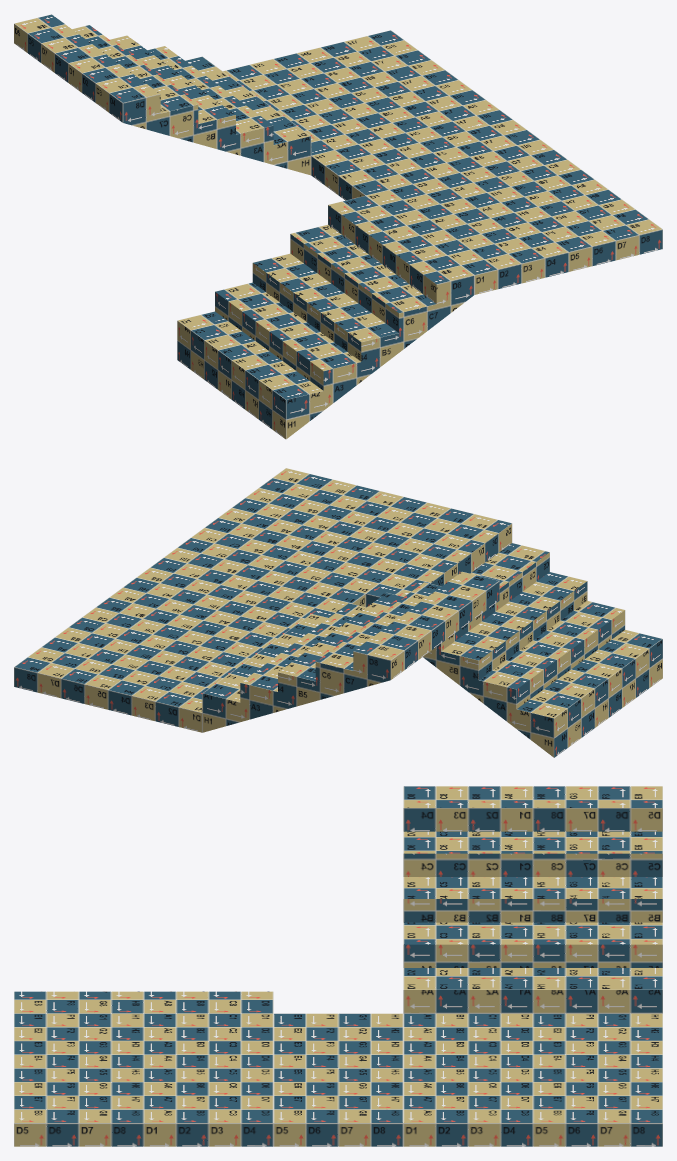
Rendered from STAIR_Switchback.fbx.
The picture shows the model from 3 angles, top to bottom: view 1: azimuth 30°, elevation 25°; view 2: azimuth 150°, elevation 25°; view 3: azimuth 270°, elevation 25°; orthographic projection. The views are drawn at different scales.
Parts seen in each view (by area): view 1: STAIR_Switchback; view 2: STAIR_Switchback; view 3: STAIR_Switchback.
Boxes of the visible parts, x1,y1,x2,y2 form: STAIR_Switchback: (14, 14, 662, 439); STAIR_Switchback: (14, 468, 662, 757); STAIR_Switchback: (14, 786, 662, 1146).
Size of the model in its own units: 400 by 220 by 500.
Materials: 2 (2 with a texture image).
